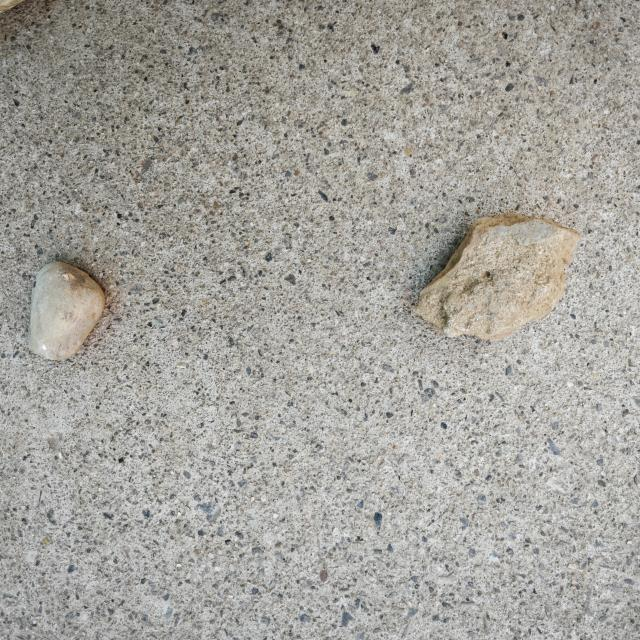-Other waste - brick-: (411, 213, 580, 342)
-Other waste - pebble-: (28, 260, 106, 364)
